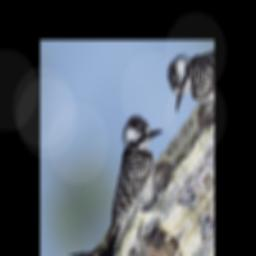Woodpecker: (73, 94, 197, 256)
